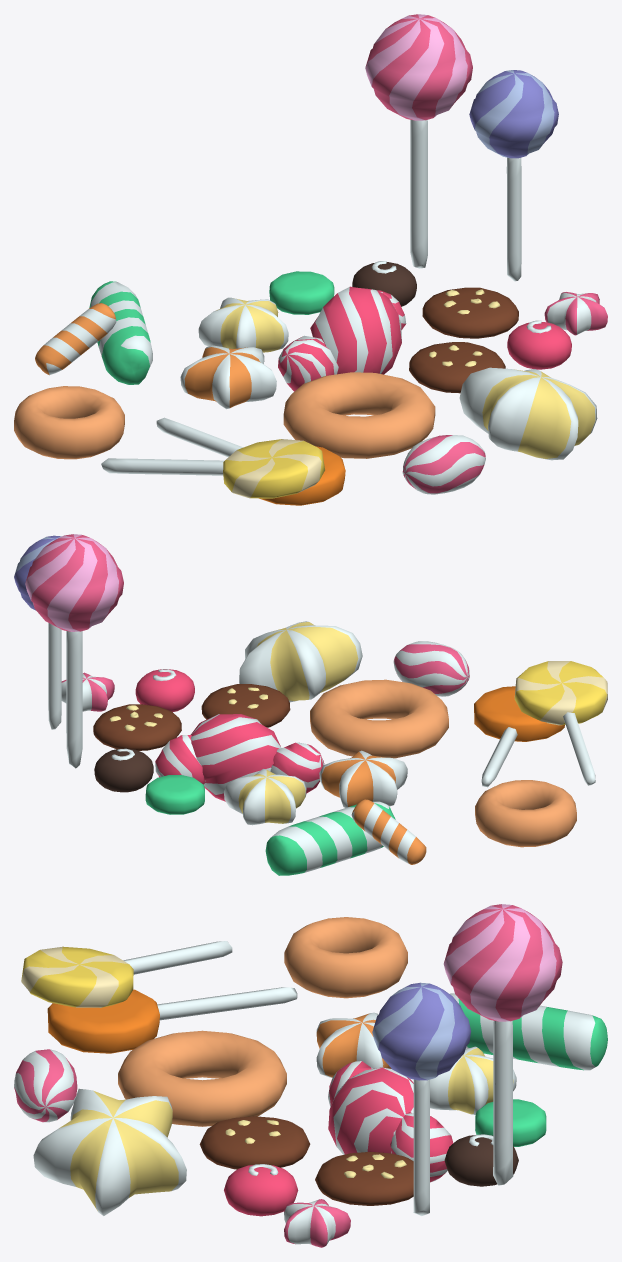
Rendered from customfirst.gltf.
3 views of the same model, one above another, from view 1: azimuth 30°, elevation 25°; view 2: azimuth 150°, elevation 25°; view 3: azimuth 270°, elevation 25° (orthographic). The views are drawn at different scales.
Visible parts, largest first — view 1: Donut_A_04_LOD1_Mat_Pastry_0, Mintstar_04_LOD1_Mat_Candy Specular_0.001, Lollipop_A_03_LOD1_Mat_Candy Specular_0, CandyPlant_A_03_LOD1_Mat_Candy Specular_0, Donut_A_01_LOD1_Mat_Pastry_0.001, Lollipop_A_02_LOD1_Mat_Candy Specular_0, Lollipop_B_01_LOD1_Mat_Candy Specular_0, Mintstar_05_LOD1_Mat_Candy Specular_0, Candybar_A_01_LOD1_Mat_Candy Specular_0, CookieNut_02_LOD1_Mat_Pastry_0, Candy_B_03_LOD1_Mat_Candy Specular_0, Mintstar_04_LOD1_Mat_Candy Specular_0 (+11 smaller); view 2: Donut_A_04_LOD1_Mat_Pastry_0, CandyPlant_A_03_LOD1_Mat_Candy Specular_0, Lollipop_A_03_LOD1_Mat_Candy Specular_0, Mintstar_04_LOD1_Mat_Candy Specular_0.001, Donut_A_01_LOD1_Mat_Pastry_0.001, Candybar_A_01_LOD1_Mat_Candy Specular_0, Lollipop_B_01_LOD1_Mat_Candy Specular_0, Mintstar_05_LOD1_Mat_Candy Specular_0, Mintstar_04_LOD1_Mat_Candy Specular_0, CookieNut_02_LOD1_Mat_Pastry_0, Candy_B_03_LOD1_Mat_Candy Specular_0, Lollipop_B_02_LOD1_Mat_Candy Specular_0 (+11 smaller); view 3: Mintstar_04_LOD1_Mat_Candy Specular_0.001, Donut_A_04_LOD1_Mat_Pastry_0, Lollipop_A_03_LOD1_Mat_Candy Specular_0, CandyPlant_A_03_LOD1_Mat_Candy Specular_0, Donut_A_01_LOD1_Mat_Pastry_0.001, Lollipop_A_02_LOD1_Mat_Candy Specular_0, Candybar_A_01_LOD1_Mat_Candy Specular_0, Lollipop_B_01_LOD1_Mat_Candy Specular_0, Lollipop_B_02_LOD1_Mat_Candy Specular_0, CookieNut_01_LOD1_Mat_Pastry_0, CookieNut_02_LOD1_Mat_Pastry_0, Candy_B_03_LOD1_Mat_Candy Specular_0 (+10 smaller).
Boxes of the visible parts, x1,y1,x2,y2 form: Donut_A_04_LOD1_Mat_Pastry_0: (283,372,435,458); Mintstar_04_LOD1_Mat_Candy Specular_0.001: (459,367,597,460); Lollipop_A_03_LOD1_Mat_Candy Specular_0: (365,14,472,120); CandyPlant_A_03_LOD1_Mat_Candy Specular_0: (278,286,406,391); Donut_A_01_LOD1_Mat_Pastry_0.001: (14,386,124,459); Lollipop_A_02_LOD1_Mat_Candy Specular_0: (469,70,558,158); Lollipop_B_01_LOD1_Mat_Candy Specular_0: (223,439,324,498); Mintstar_05_LOD1_Mat_Candy Specular_0: (180,345,276,409); Candybar_A_01_LOD1_Mat_Candy Specular_0: (89,281,152,384); CookieNut_02_LOD1_Mat_Pastry_0: (422,287,518,338); Candy_B_03_LOD1_Mat_Candy Specular_0: (402,435,485,494); Mintstar_04_LOD1_Mat_Candy Specular_0: (198,297,288,352); Donut_A_04_LOD1_Mat_Pastry_0: (310,679,448,758); CandyPlant_A_03_LOD1_Mat_Candy Specular_0: (155,714,324,801); Lollipop_A_03_LOD1_Mat_Candy Specular_0: (25,534,123,631); Mintstar_04_LOD1_Mat_Candy Specular_0.001: (239,621,362,702); Donut_A_01_LOD1_Mat_Pastry_0.001: (475,780,576,847); Candybar_A_01_LOD1_Mat_Candy Specular_0: (265,801,395,875); Lollipop_B_01_LOD1_Mat_Candy Specular_0: (514,661,607,725); Mintstar_05_LOD1_Mat_Candy Specular_0: (319,750,407,807); Mintstar_04_LOD1_Mat_Candy Specular_0: (224,769,306,825); CookieNut_02_LOD1_Mat_Pastry_0: (93,704,181,750); Candy_B_03_LOD1_Mat_Candy Specular_0: (393,641,469,696); Lollipop_B_02_LOD1_Mat_Candy Specular_0: (474,686,564,741); Mintstar_04_LOD1_Mat_Candy Specular_0.001: (33,1088,186,1215); Donut_A_04_LOD1_Mat_Pastry_0: (118,1030,286,1126); Lollipop_A_03_LOD1_Mat_Candy Specular_0: (443,904,562,1021); CandyPlant_A_03_LOD1_Mat_Candy Specular_0: (328,1061,453,1182); Donut_A_01_LOD1_Mat_Pastry_0.001: (284,917,407,998); Lollipop_A_02_LOD1_Mat_Candy Specular_0: (372,982,471,1080); Candybar_A_01_LOD1_Mat_Candy Specular_0: (450,993,607,1070); Lollipop_B_01_LOD1_Mat_Candy Specular_0: (21,946,133,1007); Lollipop_B_02_LOD1_Mat_Candy Specular_0: (47,989,159,1053); CookieNut_01_LOD1_Mat_Pastry_0: (199,1116,310,1169); CookieNut_02_LOD1_Mat_Pastry_0: (315,1151,413,1205); Candy_B_03_LOD1_Mat_Candy Specular_0: (14,1049,77,1122).
Bounding box in the file's own units: 13.24 × 6.56 × 10.84.
6 materials, 6 textured.
